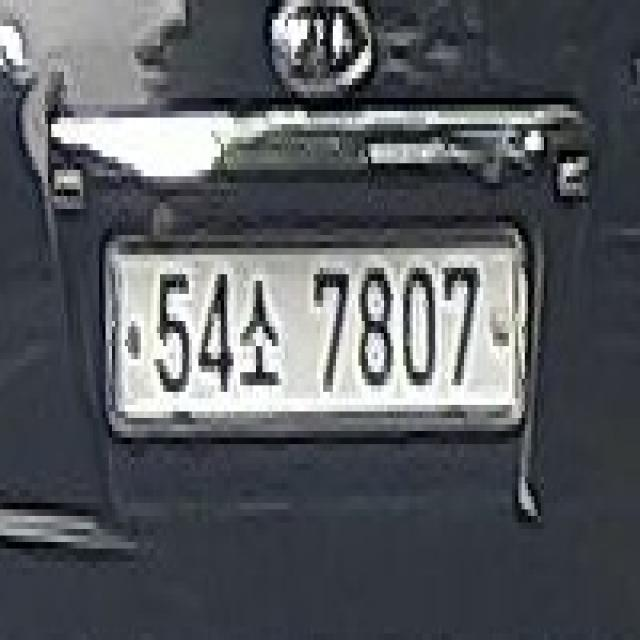0: (397, 248, 438, 392)
4: (189, 262, 230, 386)
5: (150, 242, 192, 392)
7: (438, 248, 489, 392), (307, 248, 349, 398)
8: (355, 248, 397, 398)
license_plate: (102, 222, 525, 431)
so: (234, 242, 288, 398)
